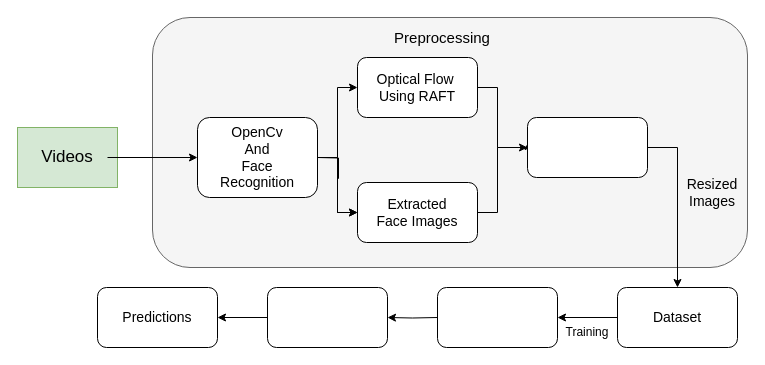
Some shapes in this 765 by 365 pixel diagram are drawn without their labels. Each missing label, with the box of its shape:
CNN Model: (266, 286, 388, 348)
Normalization: (436, 286, 558, 348)
Resize (36,36,3): (526, 116, 648, 178)
